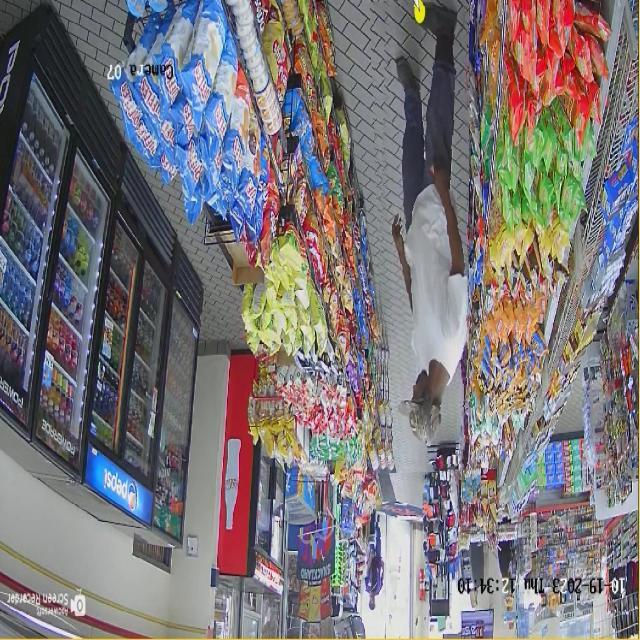Normal: (375, 0, 469, 473), (363, 509, 385, 624)
